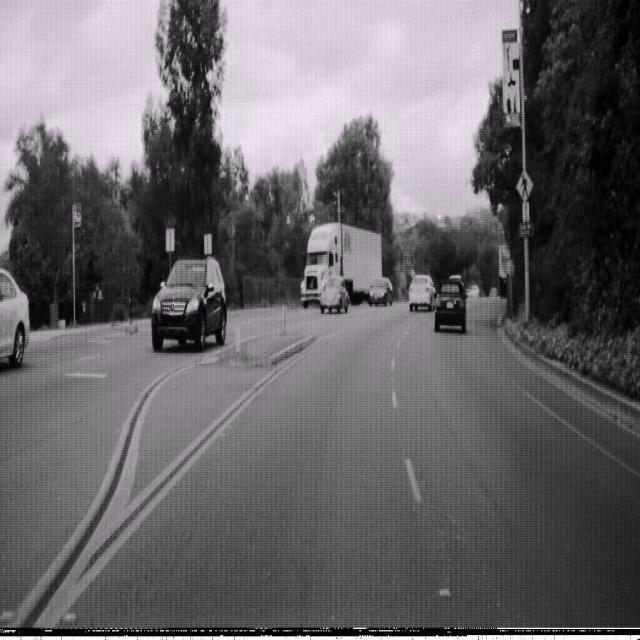pedestrianCrossing: (516, 166, 533, 204)
